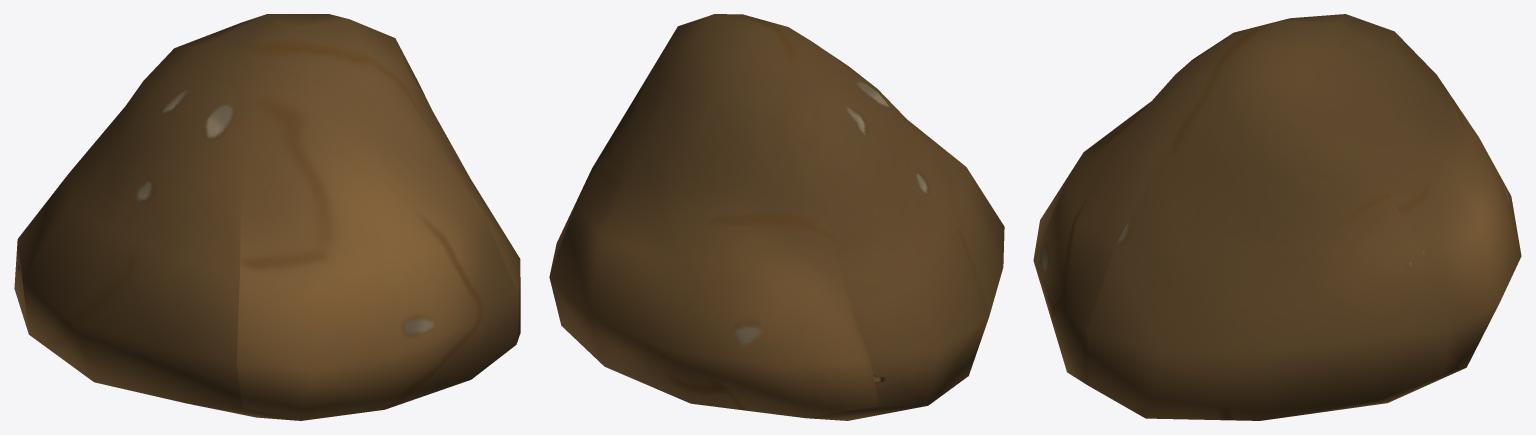
The model's file is dung pickup.fbx.
The picture shows the model from 3 angles, left to right: view 1: azimuth 30°, elevation 25°; view 2: azimuth 150°, elevation 25°; view 3: azimuth 270°, elevation 25°; orthographic projection. The views are drawn at different scales.
Visible parts, largest first — view 1: Dung_Pickup; view 2: Dung_Pickup; view 3: Dung_Pickup.
Part boxes in pixels (x1,y1,x2,y2): Dung_Pickup: (14, 14, 520, 420); Dung_Pickup: (549, 14, 1004, 420); Dung_Pickup: (1033, 14, 1521, 420).
Size of the model in its own units: 53.37 by 41.74 by 53.37.
